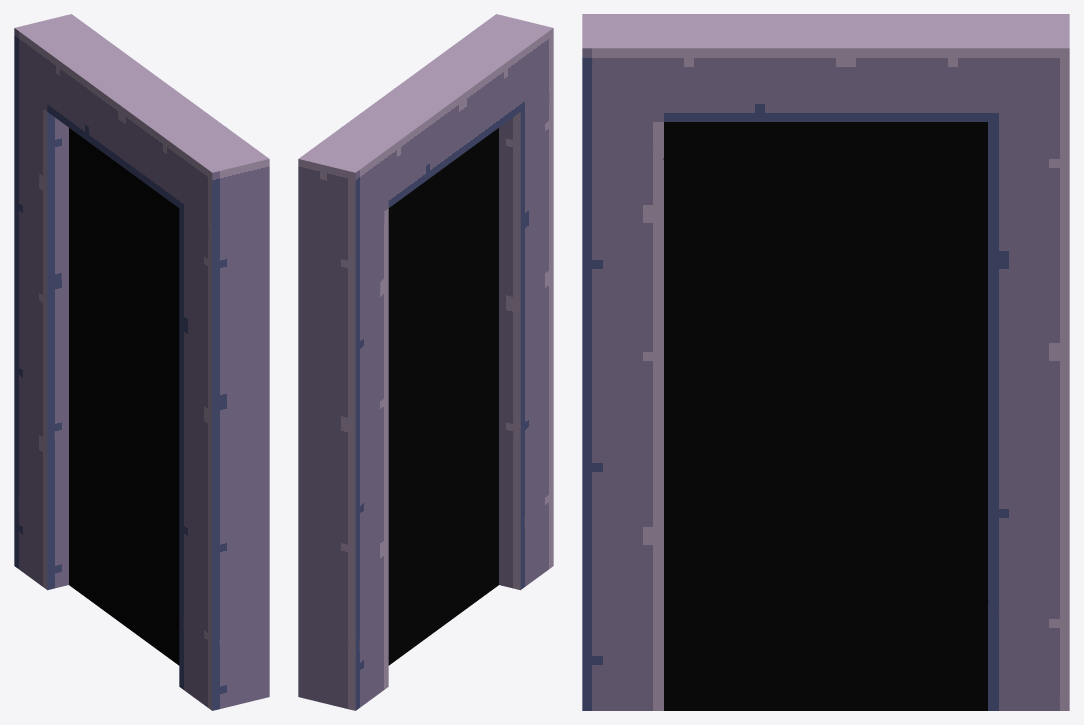
File: library_doorao.fezao.glb
3 renders of one model, left to right at view 1: azimuth 30°, elevation 25°; view 2: azimuth 150°, elevation 25°; view 3: azimuth 270°, elevation 25°, orthographic. The views are drawn at different scales.
Parts seen in each view (by area): view 1: LIBRARY_DOORAO; view 2: LIBRARY_DOORAO; view 3: LIBRARY_DOORAO.
Part boxes in pixels (<box>): LIBRARY_DOORAO: <box>14,14,269,710</box>; LIBRARY_DOORAO: <box>298,14,553,710</box>; LIBRARY_DOORAO: <box>582,14,1069,710</box>.
Size of the model in its own units: 0.5 by 4.5 by 3.
1 material, 1 textured.
